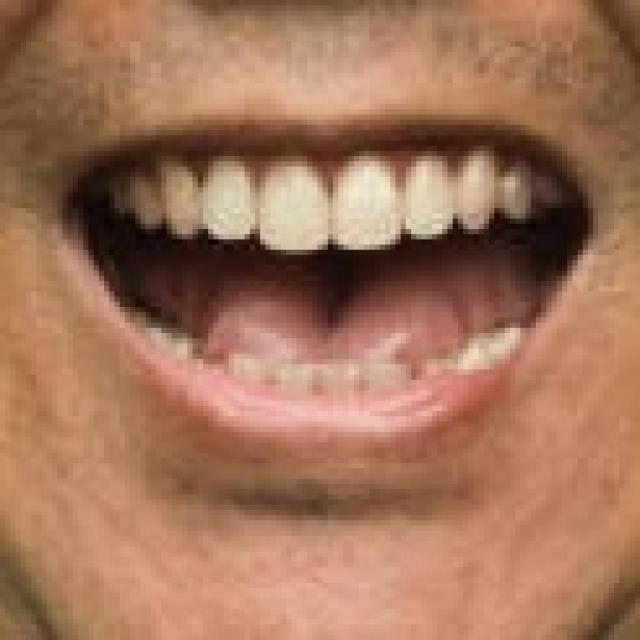open-mouth: (57, 104, 598, 458)
